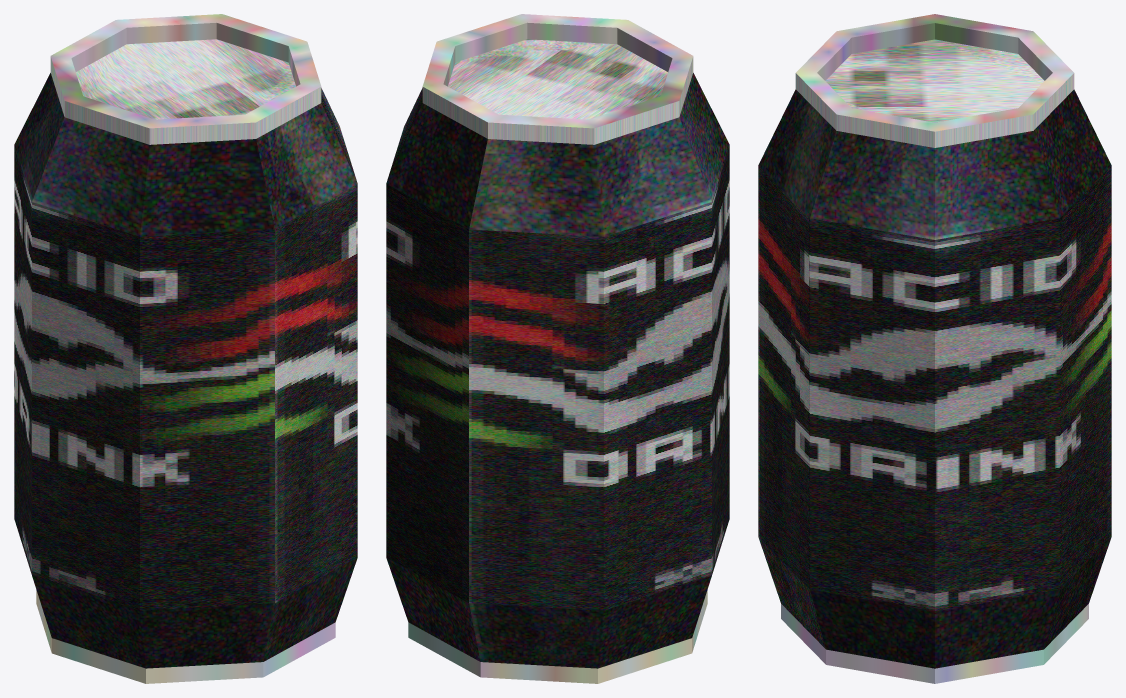
File: acid_black.glb
The picture shows the model from 3 angles, left to right: view 1: azimuth 30°, elevation 25°; view 2: azimuth 150°, elevation 25°; view 3: azimuth 270°, elevation 25°; orthographic projection.
Parts seen in each view (by area): view 1: bottel01; view 2: bottel01; view 3: bottel01.
Boxes of the visible parts, box(x1,y1,x2,y2) form: bottel01: box(14, 14, 357, 683); bottel01: box(386, 14, 729, 683); bottel01: box(758, 14, 1111, 683).
Bounding box in the file's own units: 0.1584 × 0.2702 × 0.1584.
1 material, 1 textured.
